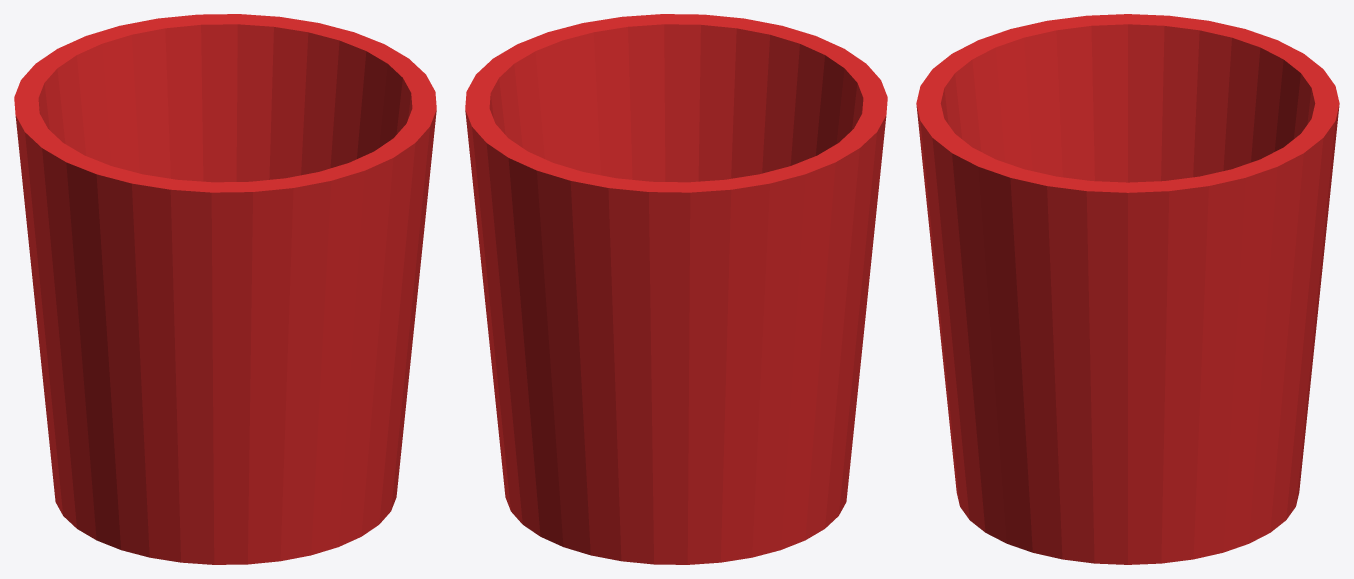
The model's file is CUP.glb.
The picture shows the model from 3 angles, left to right: view 1: azimuth 30°, elevation 25°; view 2: azimuth 150°, elevation 25°; view 3: azimuth 270°, elevation 25°; orthographic projection.
Parts seen in each view (by area): view 1: Cylinder; view 2: Cylinder; view 3: Cylinder.
Part boxes in pixels (x1=…): Cylinder: x1=14, y1=14, x2=436, y2=564; Cylinder: x1=465, y1=14, x2=887, y2=564; Cylinder: x1=916, y1=14, x2=1339, y2=564.
Bounding box in the file's own units: 2.47 × 2.51 × 2.47.
